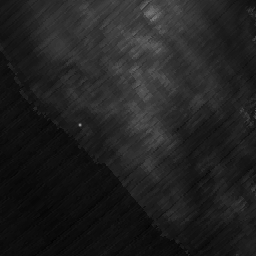Target: (76, 121, 83, 128)
